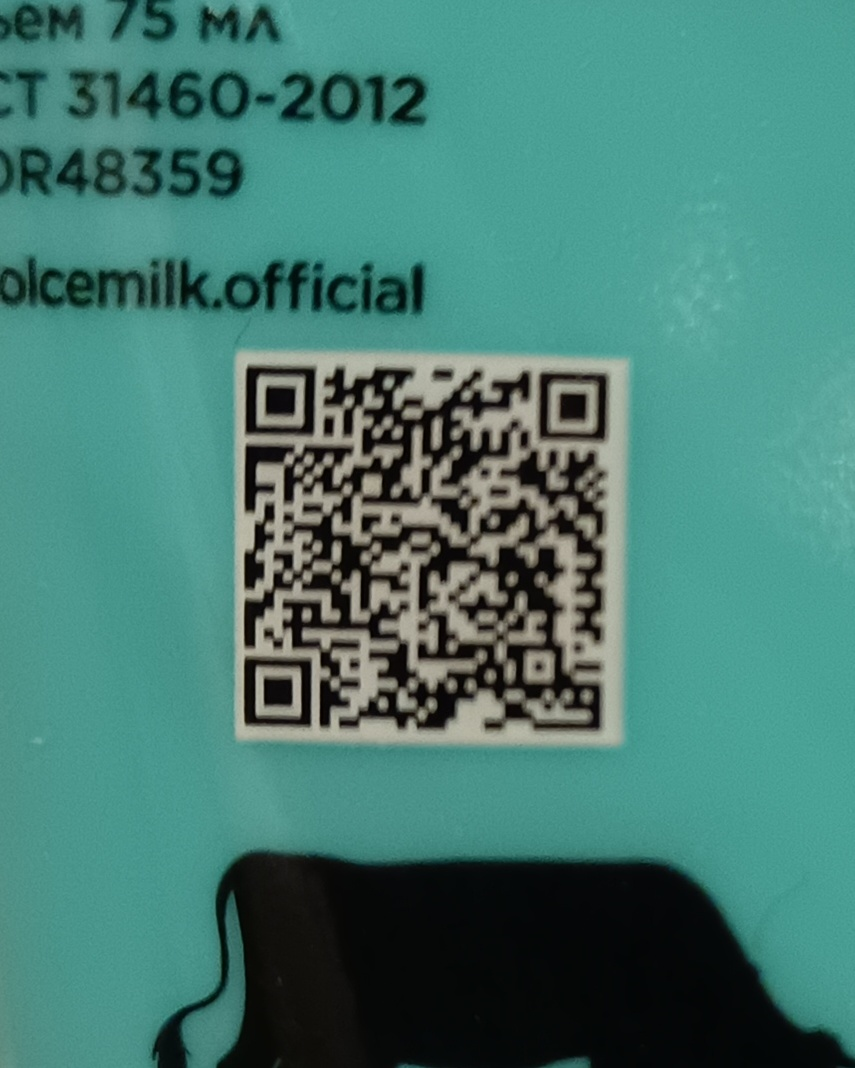2d: (241, 355, 609, 738)
